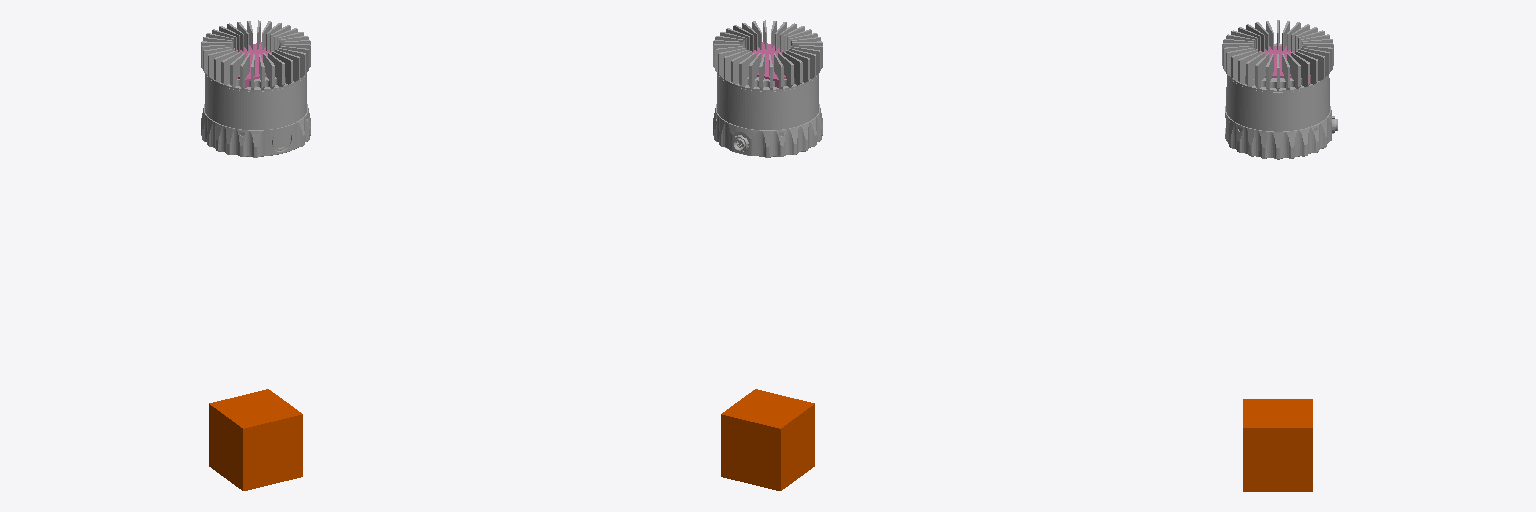
The robot description file, URDF, robot "robot_base":
<?xml version="1.0"?>

<robot name="robot_base">
  <link name="base_link">
    <inertial>
      <origin
        xyz="0.0030946 4.78250032638821E-11 0.053305"
        rpy="0 0 0" />
      <mass
        value="47.873" />
      <inertia
        ixx="0.774276574699151"
        ixy="-1.03781944357671E-10"
        ixz="0.00763014265820928"
        iyy="1.64933255189991"
        iyz="1.09578155845563E-12"
        izz="2.1239326987473" />
    </inertial>
    <visual>
      <origin
        xyz="0 0 0"
        rpy="1.5707963267949 0 3.14" />
      <geometry>
        <mesh filename="package://rover/rover/simulation/meshes/robot_base.stl" />
      </geometry>
      <material
        name="">
        <color
          rgba="0.79216 0.81961 0.93333 1" />
      </material>
    </visual>
    <collision>
      <origin
        xyz="0 0 0"
        rpy="1.5707963267949 0 3.14" />
      <geometry>
        <mesh filename="package://rover/rover/simulation/meshes/robot_base.stl" />
      </geometry>
    </collision>
  </link>

  <link name="front_left_wheel">
    <inertial>
      <origin
        xyz="-4.1867E-18 0.0068085 -1.65658661799998E-18"
        rpy="0 0 0" />
      <mass
        value="2.6578" />
      <inertia
        ixx="0.00856502765719703"
        ixy="1.5074118157338E-19"
        ixz="-4.78150098725052E-19"
        iyy="0.013670640432096"
        iyz="-2.68136447099727E-19"
        izz="0.00856502765719703" />
    </inertial>
    <visual>
      <origin
        xyz="0 0 0"
        rpy="1.5707963267949 0 0" />
      <geometry>
        <mesh filename="package://rover/rover/simulation/meshes/wheel.stl" />
      </geometry>
      <material
        name="">
        <color
          rgba="0.79216 0.81961 0.93333 1" />
      </material>
    </visual>
    <collision>
      <origin
        xyz="0 0 0"
        rpy="1.5707963267949 0 0" />
      <geometry>
        <mesh filename="package://rover/rover/simulation/meshes/wheel.stl" />
      </geometry>
    </collision>
  </link>

  <link name="front_right_wheel">
    <inertial>
      <origin
        xyz="-4.1867E-18 0.0068085 -1.65658661799998E-18"
        rpy="0 0 0" />
      <mass
        value="2.6578" />
      <inertia
        ixx="0.00856502765719703"
        ixy="1.5074118157338E-19"
        ixz="-4.78150098725052E-19"
        iyy="0.013670640432096"
        iyz="-2.68136447099727E-19"
        izz="0.00856502765719703" />
    </inertial>
    <visual>
      <origin
        xyz="0 0 0"
        rpy="1.5707963267949 0 0" />
      <geometry>
        <mesh filename="package://rover/rover/simulation/meshes/wheel.stl" />
      </geometry>
      <material
        name="">
        <color
          rgba="0.79216 0.81961 0.93333 1" />
      </material>
    </visual>
    <collision>
      <origin
        xyz="0 0 0"
        rpy="1.5707963267949 0 0" />
      <geometry>
        <mesh filename="package://rover/rover/simulation/meshes/wheel.stl" />
      </geometry>
    </collision>
  </link>

  <link name="rear_left_wheel">
    <inertial>
      <origin
        xyz="-4.1867E-18 0.0068085 -1.65658661799998E-18"
        rpy="0 0 0" />
      <mass
        value="2.6578" />
      <inertia
        ixx="0.00856502765719703"
        ixy="1.5074118157338E-19"
        ixz="-4.78150098725052E-19"
        iyy="0.013670640432096"
        iyz="-2.68136447099727E-19"
        izz="0.00856502765719703" />
    </inertial>
    <visual>
      <origin
        xyz="0 0 0"
        rpy="1.5707963267949 0 0" />
      <geometry>
        <mesh filename="package://rover/rover/simulation/meshes/wheel.stl" />
      </geometry>
      <material
        name="">
        <color
          rgba="0.79216 0.81961 0.93333 1" />
      </material>
    </visual>
    <collision>
      <origin
        xyz="0 0 0"
        rpy="1.5707963267949 0 0" />
      <geometry>
        <mesh filename="package://rover/rover/simulation/meshes/wheel.stl" />
      </geometry>
    </collision>
  </link>

  <link name="rear_right_wheel">
    <inertial>
      <origin
        xyz="-4.1867E-18 0.0068085 -1.65658661799998E-18"
        rpy="0 0 0" />
      <mass
        value="2.6578" />
      <inertia
        ixx="0.00856502765719703"
        ixy="1.5074118157338E-19"
        ixz="-4.78150098725052E-19"
        iyy="0.013670640432096"
        iyz="-2.68136447099727E-19"
        izz="0.00856502765719703" />
    </inertial>
    <visual>
      <origin
        xyz="0 0 0"
        rpy="1.5707963267949 0 0" />
      <geometry>
        <mesh filename="package://rover/rover/simulation/meshes/wheel.stl" />
      </geometry>
      <material
        name="">
        <color
          rgba="0.79216 0.81961 0.93333 1" />
      </material>
    </visual>
    <collision>
      <origin
        xyz="0 0 0"
        rpy="1.5707963267949 0 0" />
      <geometry>
        <mesh filename="package://rover/rover/simulation/meshes/wheel.stl" />
      </geometry>
    </collision>
  </link>

  <link name="imu_link">
    <collision>
      <origin xyz="0 0 0" rpy="0 0 0"/>
      <geometry>
    <box size="0.05 0.05 0.05"/>
      </geometry>
    </collision>

    <visual>
      <origin xyz="0 0 0" rpy="0 0 0"/>
      <geometry>
    <box size="0.05 0.05 0.05"/>
      </geometry>
      <material name="red"/>
    </visual>

    <inertial>
      <mass value="1e-5" />
      <origin xyz="0 0 0" rpy="0 0 0"/>
      <inertia ixx="1e-6" ixy="0" ixz="0" iyy="1e-6" iyz="0" izz="1e-6" />
    </inertial>
  </link>

  <link name="gps_link">
    <collision>
      <origin xyz="0 0 0" rpy="0 0 0"/>
      <geometry>
    <box size="0.05 0.05 0.05"/>
      </geometry>
    </collision>

    <visual>
      <origin xyz="0 0 0" rpy="0 0 0"/>
      <geometry>
    <box size="0.05 0.05 0.05"/>
      </geometry>
      <material name="red"/>
    </visual>

    <inertial>
      <mass value="1e-5" />
      <origin xyz="0 0 0" rpy="0 0 0"/>
      <inertia ixx="1e-6" ixy="0" ixz="0" iyy="1e-6" iyz="0" izz="1e-6" />
    </inertial>
  </link>
  <link name="lidar_link">
    <inertial>
      <mass value="0.425"/>
      <origin xyz="0 0 0.03675" rpy="0 0 0" />
      <inertia ixx="0.000308429" ixy="0" ixz="0"
                iyy="0.000308429" iyz="0" izz="0.00034589"/>
    </inertial>
    <collision>
      <origin xyz="0 0 0.03675" rpy="0 0 0" />
      <geometry>
        <mesh filename="package://rover/rover/simulation/meshes/os1_64.stl" />
      </geometry>
    </collision>
    <visual>
      <origin xyz="0 0 0" rpy="0 0 0"/>
      <geometry>
        <mesh filename="package://rover/rover/simulation/meshes/os1_64.stl" />
      </geometry>
    </visual>
  </link>

  <joint name="lidar_joint" type="fixed">
      <parent link="base_link"/>
      <child link="lidar_link"/>
      <axis
      xyz="0 0 0" />
      <origin
      xyz="0.0 0 0.278189004081027"
      rpy="0 0 0" />
  </joint> 

  <joint name="gps_joint" type="fixed">
    <origin
      xyz="0.0 0 0.278189004081027"
      rpy="0 0 0" />
    <parent
      link="base_link" />
    <child
      link="gps_link" />
    <axis
      xyz="0 0 0" />
  </joint>


  <joint name="imu_joint" type="fixed">
    <origin
      xyz="0.0 0 0.0"
      rpy="1.5707963267949 0 0" />
    <parent
      link="base_link" />
    <child
      link="imu_link" />
    <axis
      xyz="0 0 0" />
  </joint>

  <joint name="front_left_wheel_joint" type="continuous">
    <axis xyz="0 1 0"/>
    <parent link ="base_link"/>
    <child link ="front_left_wheel"/>
    <origin rpy ="0 0 0" xyz= "0.220 0.250 0"/>
  </joint>


  <joint name="front_right_wheel_joint" type="continuous">
    <axis xyz="0 1 0"/>
    <parent link ="base_link"/>
    <child link ="front_right_wheel"/>
    <origin rpy ="0 0 0" xyz= "0.220 -0.250 0"/>
  </joint>

  <joint name="rear_left_wheel_joint" type="continuous">
    <axis xyz="0 1 0"/>
    <parent link ="base_link"/>
    <child link ="rear_left_wheel"/>
    <origin rpy ="0 0 0" xyz= "-0.220 0.250 0"/>
  </joint>

  <joint name="rear_right_wheel_joint" type="continuous">
    <axis xyz="0 1 0"/>
    <parent link ="base_link"/>
    <child link ="rear_right_wheel"/>
    <origin rpy ="0 0 0" xyz= "-0.220 -0.250 0"/>
  </joint>
<!--######################################################################-->
  <gazebo>
    <plugin name="gazebo_ros_control" filename="libgazebo_ros_control.so">
      <robotNamespace>/</robotNamespace>
      <controlPeriod>0.001</controlPeriod>
      <legacyModeNS>false</legacyModeNS>
    </plugin>
  </gazebo>
<!--######################################################################-->
<!-- 
  <gazebo>
      <plugin name="imu_plugin" filename="libgazebo_ros_imu.so">
        <alwaysOn>true</alwaysOn>
        <bodyName>base_footprint</bodyName>
        <topicName>imu</topicName>
        <serviceName>imu_service</serviceName>
        <gaussianNoise>0.0</gaussianNoise>
        <updateRate>20.0</updateRate>
      </plugin>
  </gazebo> -->
<!--
  <gazebo reference="imu_link">
    <gravity>true</gravity>
    <sensor name="imu_sensor" type="imu">
      <always_on>true</always_on>
      <update_rate>100</update_rate>
      <visualize>true</visualize>
      <topic>__default_topic__</topic>
      <plugin filename="libgazebo_ros_imu_sensor.so" name="imu_plugin">
        <topicName>imu</topicName>
        <bodyName>imu_link</bodyName>
        <updateRateHZ>10.0</updateRateHZ>
        <gaussianNoise>0.0</gaussianNoise>
        <xyzOffset>0 0 0</xyzOffset>
        <rpyOffset>0 0 0</rpyOffset>
        <frameName>imu_link</frameName>
        <initialOrientationAsReference>false</initialOrientationAsReference>
      </plugin>
      <pose>0 0 0 0 0 0</pose>
    </sensor>
  </gazebo> -->
<gazebo>
  <plugin filename="libhector_gazebo_ros_imu.so"
            name="hector_imu_plugin" >
    <alwaysOn>true</alwaysOn>
    <bodyName>imu_link</bodyName>
    <topicName>imu</topicName>
    <serviceName>/imu/calibrate</serviceName>
    <gaussianNoise>0.0</gaussianNoise>
    <updateRate>5.0</updateRate>
    <frameName>imu_link</frameName>
    <!-- Accelerometer config, 3 values are corresponding
    to x,y,z axis respectively -->
    <accelOffset>0 0 0 </accelOffset>
    <accelGaussianNoise>0 0 0</accelGaussianNoise>
    <accelDrift>0 0 0 </accelDrift>
    <accelDriftFrequency>0 0 0</accelDriftFrequency>
    <!-- Gyroscope config -->
    <rateOffset>0 0 0</rateOffset>
    <rateGaussianNoise> 0 0 0</rateGaussianNoise>
    <rateDrift>0 0 0 </rateDrift>
    <rateDriftFrequency> 0 0 0</rateDriftFrequency>
    <!-- Separate error model for YAW angle -->
    <yawOffset> 0 </yawOffset>
    <yawGaussianNoise> 0 </yawGaussianNoise>
    <yawDrift> 0 </yawDrift>
    <yawDriftFrequency> 0 </yawDriftFrequency> 
  </plugin>
</gazebo>


<!--######################################################################-->

<gazebo>
    <plugin name="gps_controller" filename="libhector_gazebo_ros_gps.so">
        <robotNamespace>/</robotNamespace>
        <updateRate>40</updateRate>
        <bodyName>base_link</bodyName>
        <frameId>base_link</frameId>
        <topicName>navsat/fix</topicName>
        <velocityTopicName>navsat/vel</velocityTopicName>
        <referenceLatitude>50.0</referenceLatitude>
        <referenceLongitude>60.0</referenceLongitude>
        <referenceHeading>0</referenceHeading>
        <referenceAltitude>0</referenceAltitude>
        <drift>0.0001 0.0001 0.0001</drift>
    </plugin>
</gazebo>

<!--######################################################################-->

<gazebo reference="lidar_link">
    <sensor type="gpu_ray" name="os1_lidar">
      <pose>0 0 0 0 0 0</pose>
          <visualize>true</visualize>
          <update_rate>10</update_rate>
          <ray>
            <scan>
              <horizontal>
                <samples>512</samples>
                <resolution>1</resolution>
                <min_angle>-3.141529</min_angle>
                <max_angle>3.141529</max_angle>
              </horizontal>
              <vertical>
                <samples>64</samples>
                <resolution>1</resolution>
                <min_angle>-3.141529</min_angle>
                <max_angle>-3.141529</max_angle>
              </vertical>
            </scan>
            <range>
              <min>0.9</min>
              <max>75.0</max>
              <resolution>0.03</resolution>
            </range>
          </ray>
      <plugin name="gazebo_ros_head_hokuyo_controller" filename="libgazebo_ros_gpu_laser.so">
        <topicName>/rrbot/laser/scan</topicName>
        <frameName>hokuyo_link</frameName>
      </plugin>
    </sensor>
</gazebo>

<!--######################################################################-->

<gazebo>
      <plugin name="diff_drive_controller" filename="libgazebo_ros_diff_drive.so">
        <legacyMode>false</legacyMode>
        <alwaysOn>true</alwaysOn>
        <updateRate>1000.0</updateRate>
        <leftJoint>front_left_wheel_joint, rear_left_wheel_joint</leftJoint>
        <rightJoint>front_right_wheel_joint, rear_right_wheel_joint</rightJoint>
        <wheelSeparation>0.5</wheelSeparation>
        <wheelDiameter>0.2</wheelDiameter>
        <wheelTorque>10</wheelTorque>
        <publishTf>1</publishTf>
        <odometryFrame>map</odometryFrame>
        <commandTopic>cmd_vel</commandTopic>
        <odometryTopic>odom</odometryTopic>
        <robotBaseFrame>base_link</robotBaseFrame>
        <wheelAcceleration>2.8</wheelAcceleration>
        <publishWheelJointState>true</publishWheelJointState>
        <publishWheelTF>false</publishWheelTF>
        <odometrySource>world</odometrySource>
        <rosDebugLevel>Debug</rosDebugLevel>
      </plugin>
</gazebo>
<!--######################################################################-->
<gazebo reference="front_left_wheel">
 <mu1 value="1.0"/>
 <mu2 value="1.0"/>
 <kp value="10000000.0" />
 <kd value="1.0" />
 <fdir1 value="1 0 0"/>
</gazebo>

<gazebo reference="front_right_wheel">
 <mu1 value="1.0"/>
 <mu2 value="1.0"/>
 <kp value="10000000.0" />
 <kd value="1.0" />
 <fdir1 value="1 0 0"/>
</gazebo>

<gazebo reference="rear_left_wheel">
 <mu1 value="1.0"/>
 <mu2 value="1.0"/>
 <kp value="10000000.0" />
 <kd value="1.0" />
 <fdir1 value="1 0 0"/>
</gazebo>

<gazebo reference="rear_left_wheel">
 <mu1 value="1.0"/>
 <mu2 value="1.0"/>
 <kp value="10000000.0" />
 <kd value="1.0" />
 <fdir1 value="1 0 0"/>
</gazebo>
<!--######################################################################-->
<transmission name="front_left_wheel_trans" type="SimpleTransmission">
  <type>transmission_interface/SimpleTransmission</type>
  <actuator name="front_left_wheel_motor">
   <hardwareInterface>hardware_interface/VelocityJointInterface</hardwareInterface>
   <mechanicalReduction>1</mechanicalReduction>
  </actuator>
  <joint name="front_left_wheel_joint">
   <hardwareInterface>hardware_interface/VelocityJointInterface</hardwareInterface>
  </joint>
</transmission>

<transmission name="front_right_wheel_trans" type="SimpleTransmission">
  <type>transmission_interface/SimpleTransmission</type>
  <actuator name="front_right_wheel_motor">
   <hardwareInterface>hardware_interface/VelocityJointInterface</hardwareInterface>
   <mechanicalReduction>1</mechanicalReduction>
  </actuator>
  <joint name="front_right_wheel_joint">
   <hardwareInterface>hardware_interface/VelocityJointInterface</hardwareInterface>
  </joint>
</transmission>

<transmission name="rear_left_wheel_trans" type="SimpleTransmission">
  <type>transmission_interface/SimpleTransmission</type>
  <actuator name="rear_left_wheel_motor">
   <hardwareInterface>hardware_interface/VelocityJointInterface</hardwareInterface>
   <mechanicalReduction>1</mechanicalReduction>
  </actuator>
  <joint name="rear_left_wheel_joint">
   <hardwareInterface>hardware_interface/VelocityJointInterface</hardwareInterface>
  </joint>
</transmission>

<transmission name="rear_right_wheel_trans" type="SimpleTransmission">
  <type>transmission_interface/SimpleTransmission</type>
  <actuator name="rear_right_wheel_motor">
   <hardwareInterface>hardware_interface/VelocityJointInterface</hardwareInterface>
   <mechanicalReduction>1</mechanicalReduction>
  </actuator>
  <joint name="rear_right_wheel_joint">
   <hardwareInterface>hardware_interface/VelocityJointInterface</hardwareInterface>
  </joint>
</transmission>
<!--######################################################################-->
</robot>

--- Facts derived from the render (not from the file) ---
Views: 3 orthographic renders of the robot side by side, from view 1: azimuth 30°, elevation 25°; view 2: azimuth 150°, elevation 25°; view 3: azimuth 270°, elevation 25°.
Robot: robot_base — 8 links, 7 joints (4 continuous, 3 fixed); root link base_link; default pose: every joint at zero.
Links seen in each view (by area): view 1: lidar_link, imu_link; view 2: lidar_link, imu_link; view 3: lidar_link, imu_link.
Link boxes in pixels (box(x1,y1,x2,y2)): lidar_link: box(201, 20, 310, 157); imu_link: box(209, 389, 302, 490); lidar_link: box(713, 20, 822, 157); imu_link: box(721, 389, 814, 490); lidar_link: box(1222, 20, 1337, 159); imu_link: box(1243, 399, 1312, 491).
Bounding box of the posed robot: 0.08 × 0.0823 × 0.3417 m (x, y, z).
Meshes: 3 distinct files referenced, 1 mesh visuals loaded (1 binary STL); not drawn: 5 (reference not matched to a file when rendering).